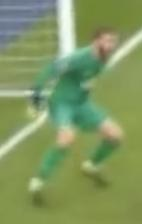goalkeeper: (18, 22, 142, 215)
